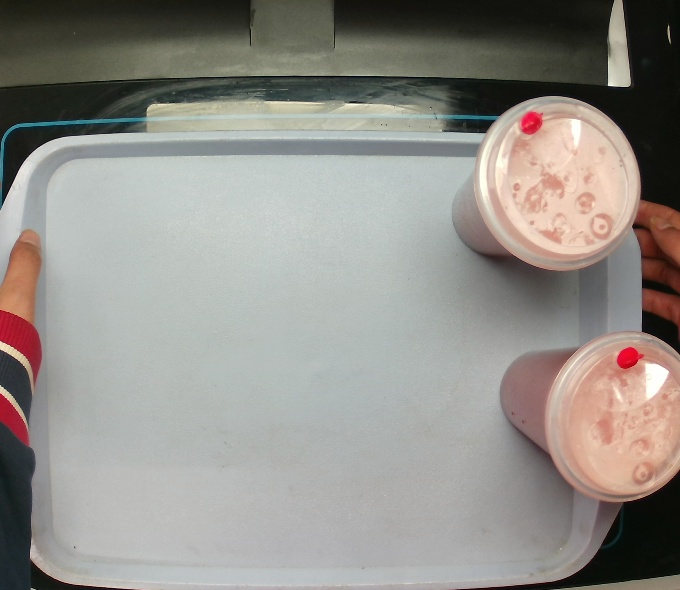wcq-XiGuaZhi: (450, 91, 643, 274), (497, 325, 679, 504)
